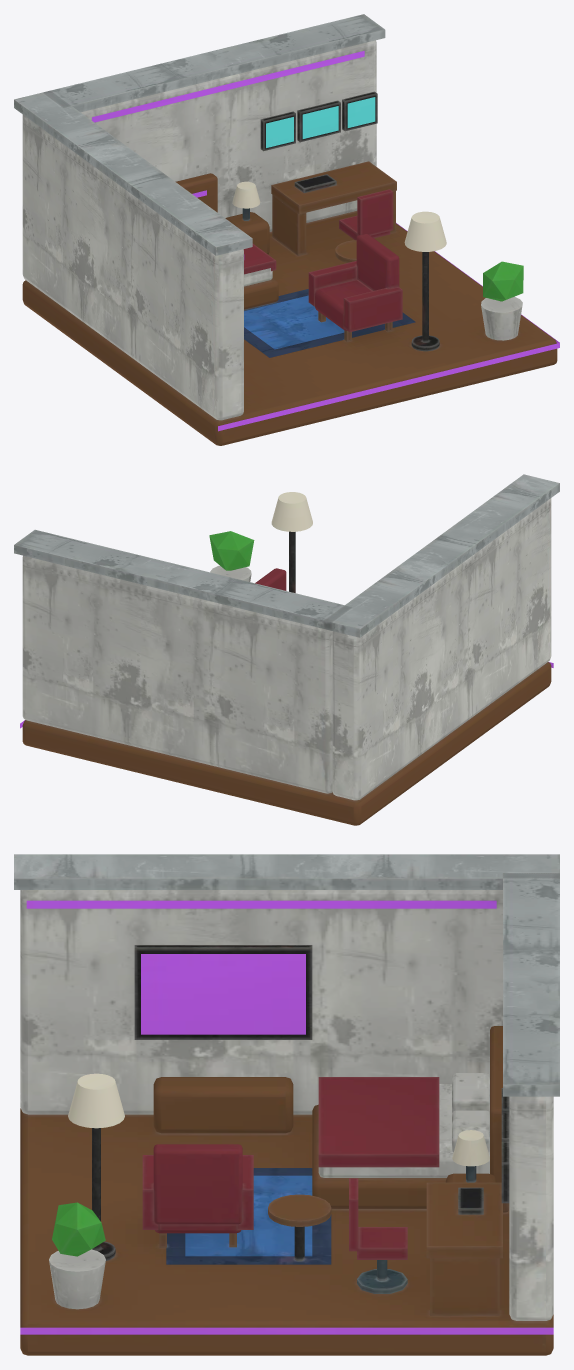
Rendered from habitat_t5.glb.
The picture shows the model from 3 angles, top to bottom: view 1: azimuth 30°, elevation 25°; view 2: azimuth 150°, elevation 25°; view 3: azimuth 270°, elevation 25°; orthographic projection. The views are drawn at different scales.
Parts seen in each view (by area): view 1: te_habitat_t5; view 2: te_habitat_t5; view 3: te_habitat_t5.
Boxes of the visible parts, x1,y1,x2,y2 form: te_habitat_t5: (14, 14, 559, 445); te_habitat_t5: (14, 474, 559, 825); te_habitat_t5: (14, 854, 559, 1355).
Size of the model in its own units: 0.86 by 0.48 by 0.86.
1 material, 1 textured.
